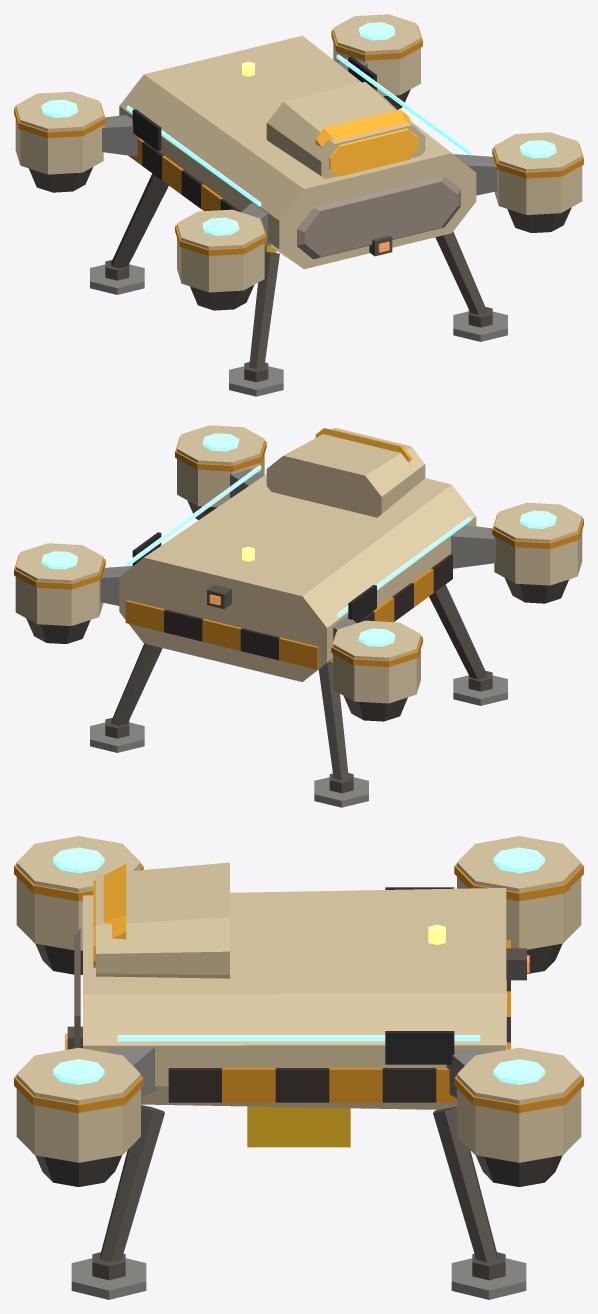
The model's file is letoun-mula.glb.
The picture shows the model from 3 angles, top to bottom: view 1: azimuth 30°, elevation 25°; view 2: azimuth 150°, elevation 25°; view 3: azimuth 270°, elevation 25°; orthographic projection. The views are drawn at different scales.
Visible parts, largest first — view 1: mula; view 2: mula; view 3: mula.
Part boxes in pixels (x1,y1,x2,y2): mula: (14,14,583,396); mula: (14,425,583,807); mula: (14,836,583,1299).
Size of the model in its own units: 7.3 by 4.06 by 6.6.
